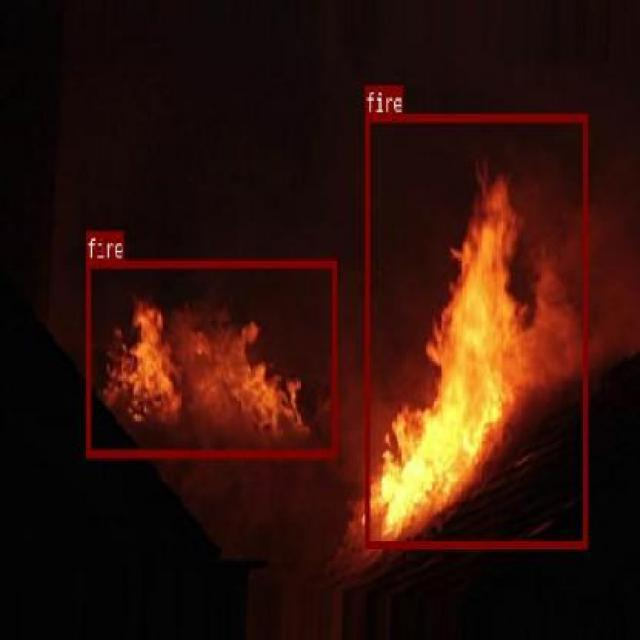fire: (364, 113, 586, 547), (86, 258, 337, 456)
